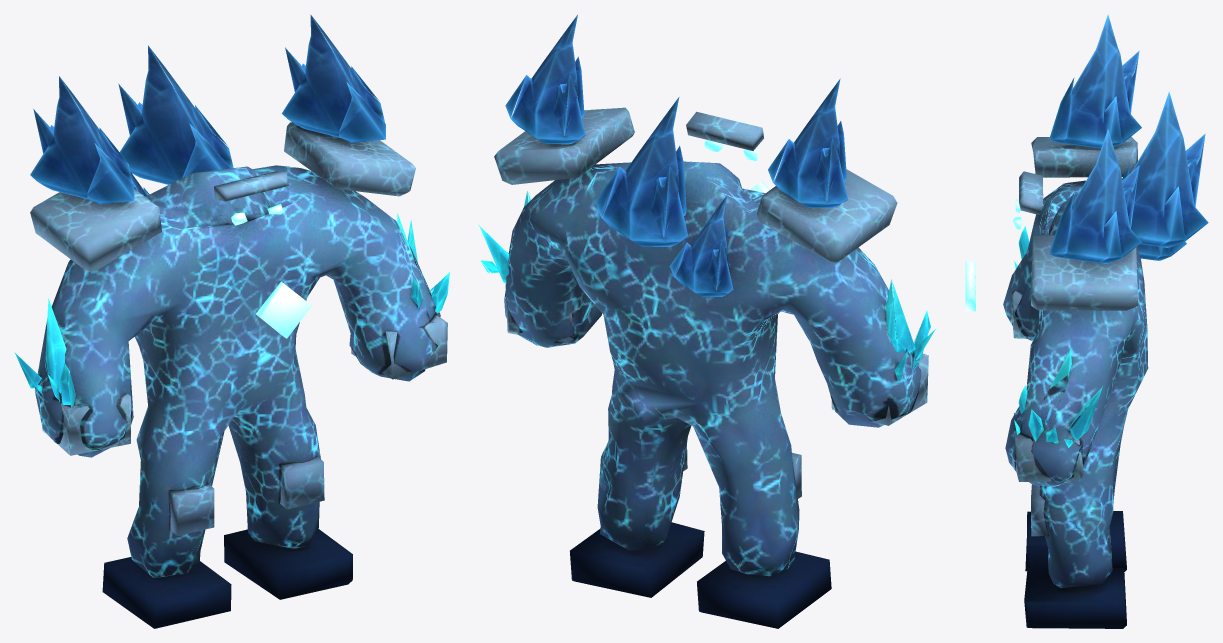
File: u_colossus_f_g.glb
The picture shows the model from 3 angles, left to right: view 1: azimuth 30°, elevation 25°; view 2: azimuth 150°, elevation 25°; view 3: azimuth 270°, elevation 25°; orthographic projection. The views are drawn at different scales.
Parts seen in each view (by area): view 1: u_colossus_f; view 2: u_colossus_f; view 3: u_colossus_f.
Boxes of the visible parts, bbox=[...] form: u_colossus_f: bbox=[14, 14, 449, 628]; u_colossus_f: bbox=[478, 14, 936, 628]; u_colossus_f: bbox=[965, 14, 1208, 628].
Bounding box in the file's own units: 5.38 × 6.58 × 2.89.
Materials: 3 (3 with a texture image).
